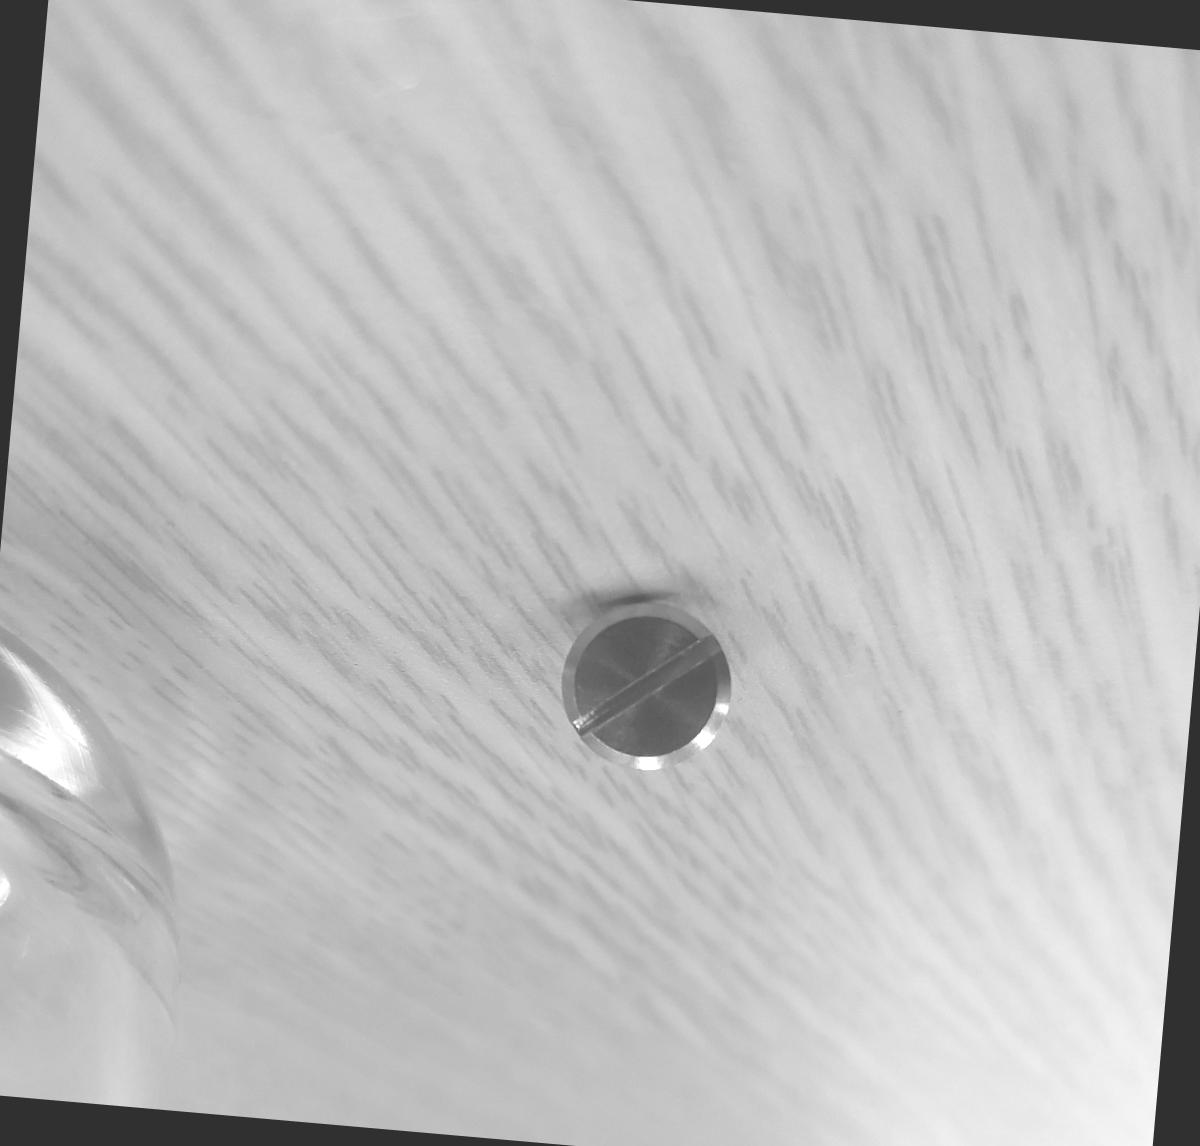screw: (554, 592, 742, 781)
